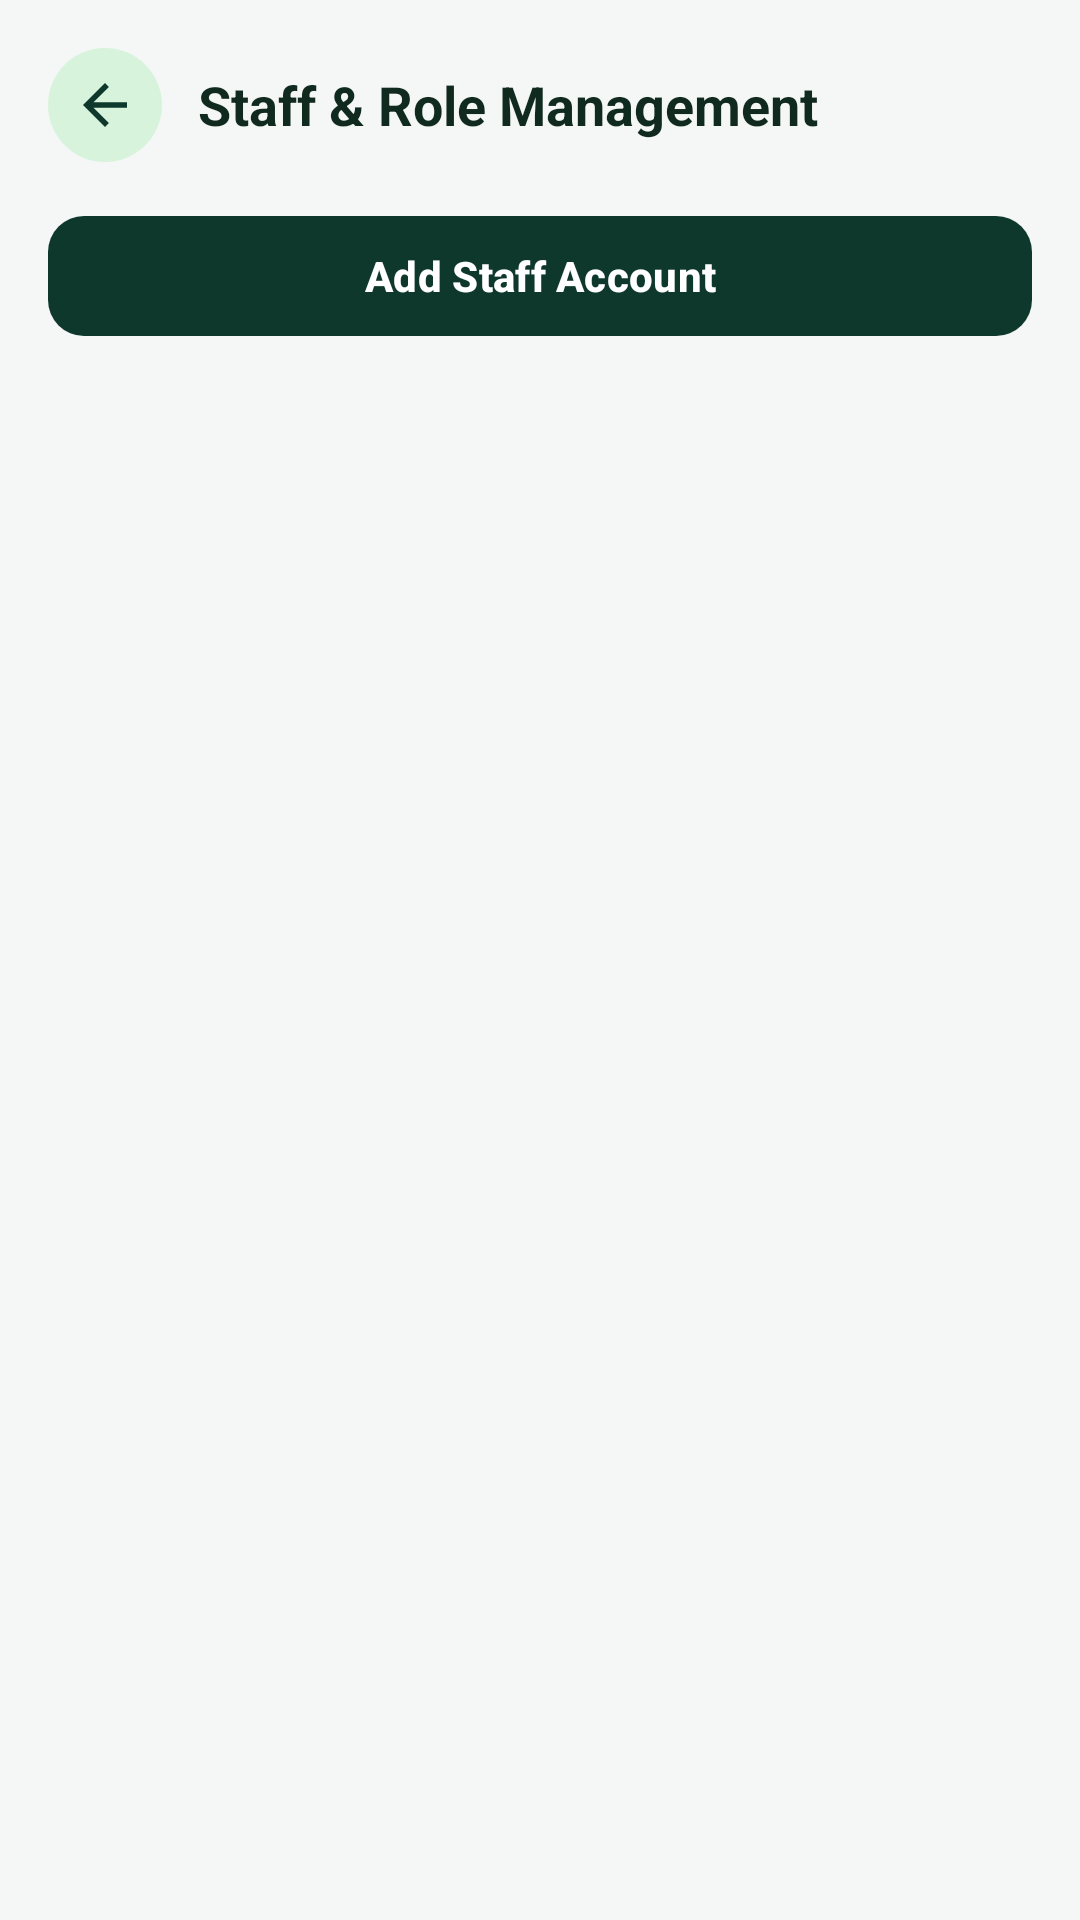

Icon click points for this 1080 × 1920 phone screenshot, format point (x, y):
Back: point (105, 105)
